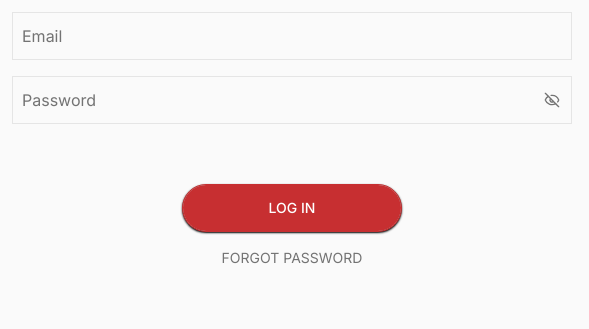
Test: LoginForm › shows validation errors on empty submit
Click the button "LOG IN".
click(292, 208)  # box [182,184,402,232]
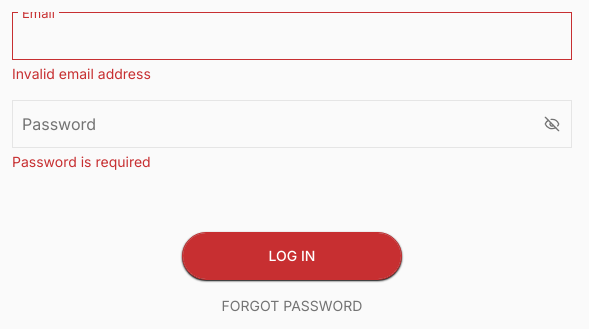
Check: the text "Invalid email address" is shown, box [12,65,151,82]
Check: the text "Password is required" is shown, box [12,153,151,170]
